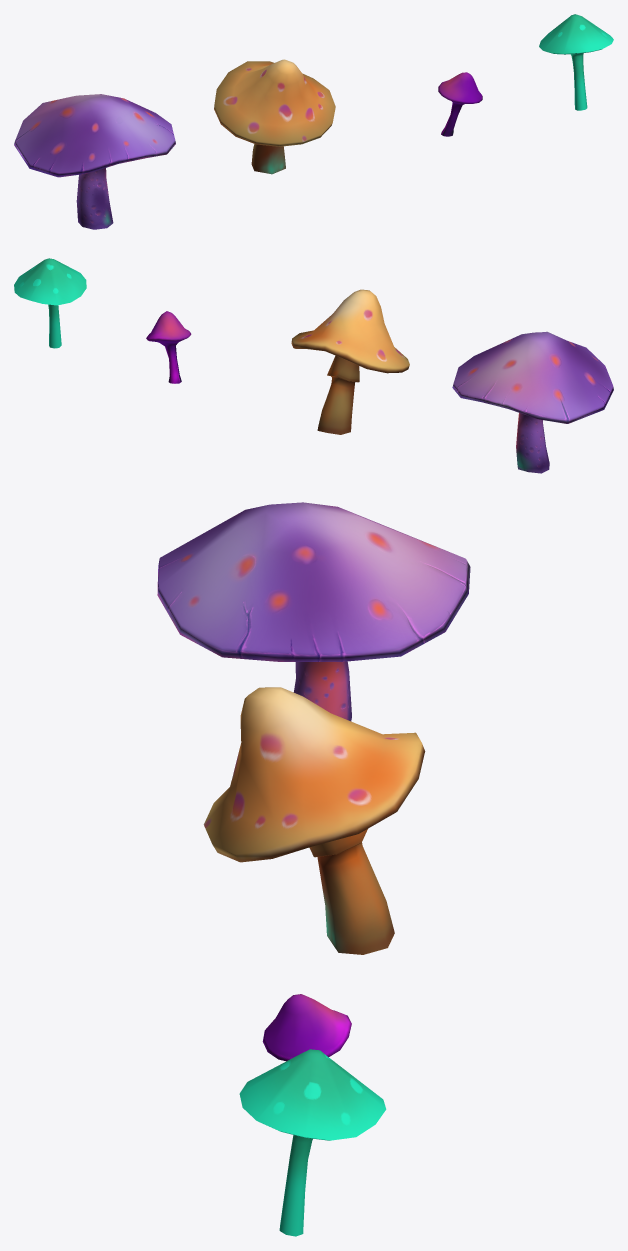
The model's file is mushrooms.fbx.
3 renders of one model, top to bottom at view 1: azimuth 30°, elevation 25°; view 2: azimuth 150°, elevation 25°; view 3: azimuth 270°, elevation 25°, orthographic. The views are drawn at different scales.
Visible parts, largest first — view 1: Circle, Circle.001, Circle.002, Circle.005; view 2: Circle, Circle.001, Circle.002, Circle.005; view 3: Circle, Circle.001, Circle.002, Circle.005.
Boxes of the visible parts, x1,y1,x2,y2 form: Circle: [14, 94, 175, 229]; Circle.001: [214, 59, 335, 174]; Circle.002: [539, 14, 613, 110]; Circle.005: [438, 72, 482, 136]; Circle: [452, 331, 613, 473]; Circle.001: [291, 289, 409, 434]; Circle.002: [14, 258, 86, 348]; Circle.005: [146, 311, 191, 383]; Circle: [157, 502, 470, 721]; Circle.001: [203, 687, 425, 954]; Circle.002: [239, 1049, 386, 1236]; Circle.005: [262, 994, 351, 1061].
Size of the model in its own units: 260 by 53.73 by 60.52.
